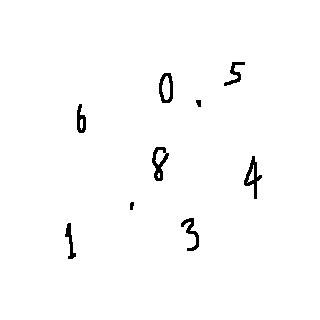.: (190, 90, 207, 119), (120, 200, 145, 218)
0: (155, 64, 178, 114)
1: (55, 214, 90, 268)
3: (175, 205, 210, 261)
4: (235, 143, 268, 207)
5: (222, 60, 251, 92)
6: (67, 99, 94, 139)
8: (146, 139, 174, 187)
